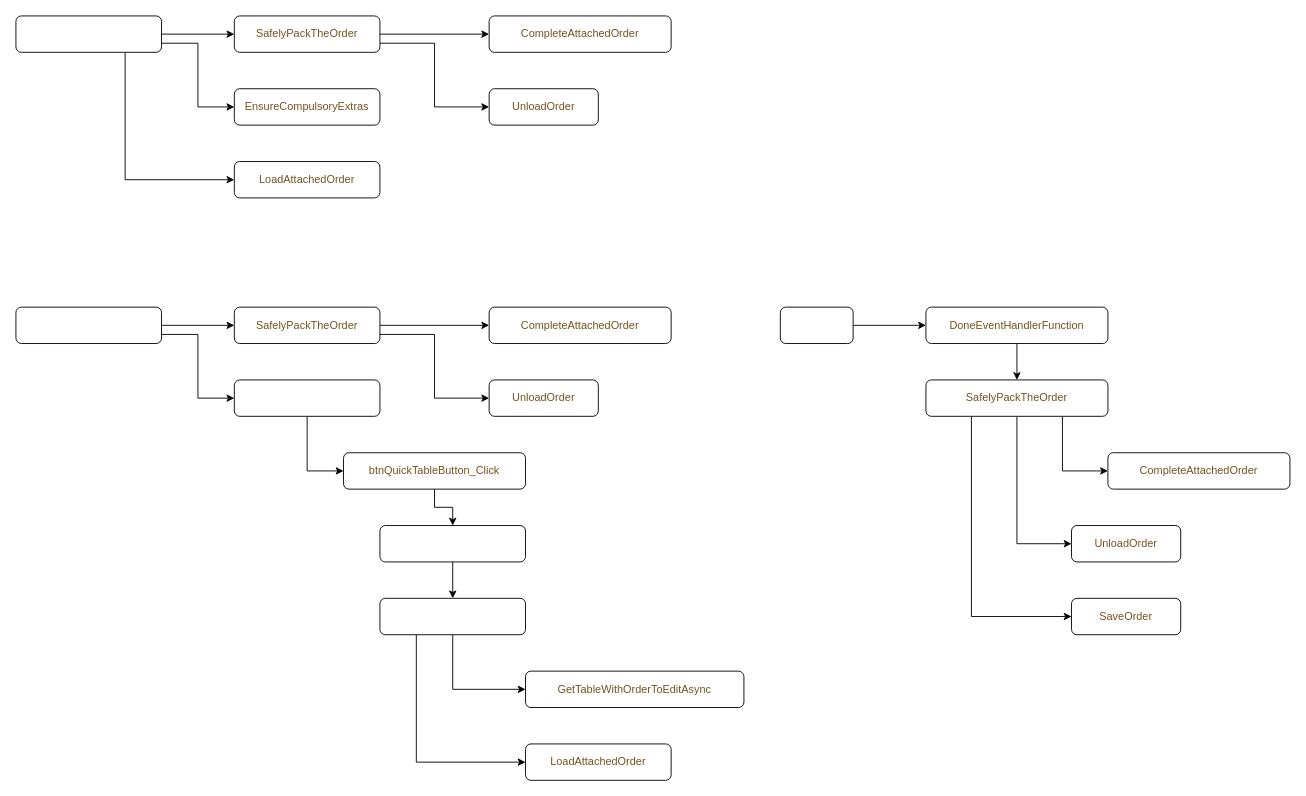
Some shapes in this 1306 by 796 pixel diagram are drawn without their labels. The shapes that lost their labels are listed below. From the top down, each one's centre as x and y in pixels, then its label:
point 88,33: cmdDirectSale_Click
point 88,325: cmdTables_Click
point 816,325: Done
point 306,397: AttachPanel (ctlTables)
point 452,543: ButtonClickHandler
point 452,616: btnTableButton_Click
